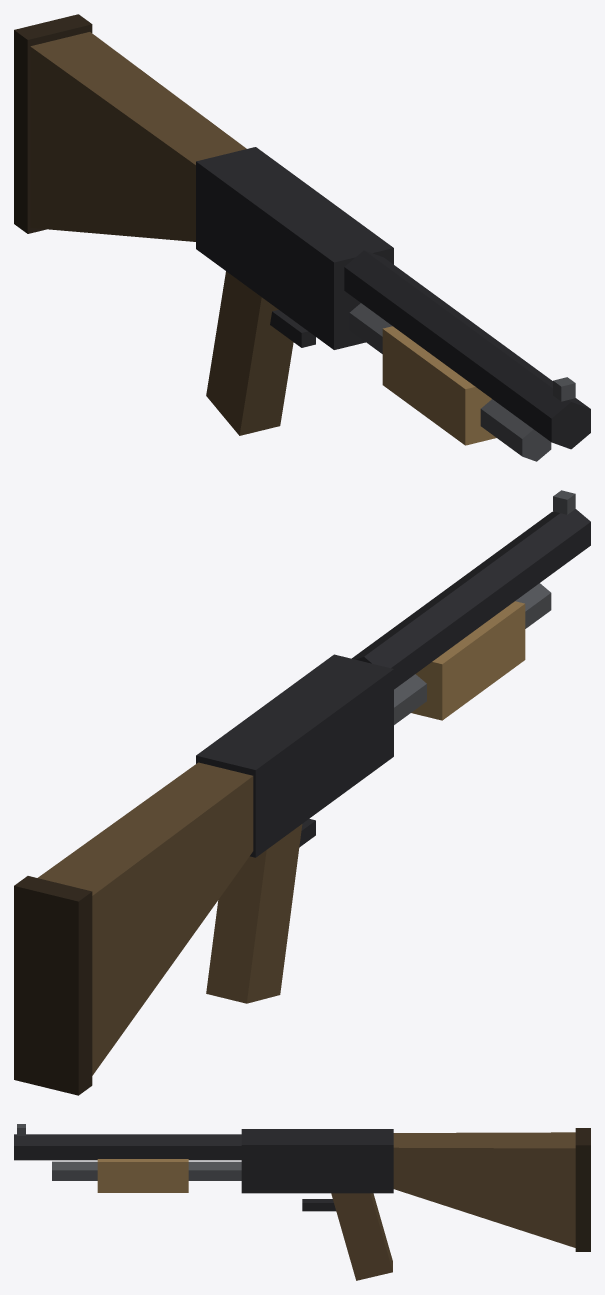
Rendered from shotgun.glb.
3 views of the same model, one above another, from view 1: azimuth 30°, elevation 25°; view 2: azimuth 150°, elevation 25°; view 3: azimuth 270°, elevation 25° (orthographic). The views are drawn at different scales.
Visible parts, largest first — view 1: shotgun; view 2: shotgun; view 3: shotgun.
Part boxes in pixels (x1=…): shotgun: x1=14, y1=14, x2=590, y2=461; shotgun: x1=14, y1=490, x2=590, y2=1095; shotgun: x1=14, y1=1124, x2=590, y2=1280.
Bounding box in the file's own units: 0.054 × 0.2173 × 0.76.
